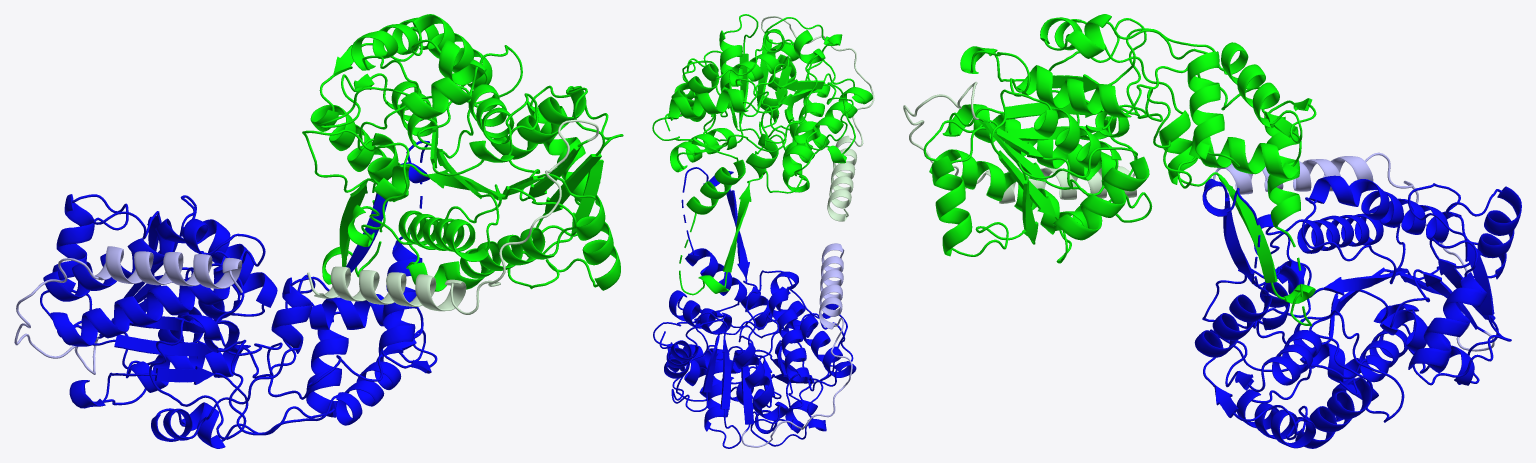
The model's file is Fig1.gltf.
3 renders of one model, left to right at view 1: azimuth 30°, elevation 25°; view 2: azimuth 150°, elevation 25°; view 3: azimuth 270°, elevation 25°, orthographic. The views are drawn at different scales.
Parts seen in each view (by area): view 1: node-geom0, node-geom4, node-geom5, node-geom2, node-geom1, node-geom3, node-geom6; view 2: node-geom2, node-geom3, node-geom1, node-geom4, node-geom0, node-geom5, node-geom6; view 3: node-geom2, node-geom0, node-geom3, node-geom1, node-geom5, node-geom4, node-geom6.
Part boxes in pixels (<box>): node-geom0: <box>307,85,623,314</box>; node-geom4: <box>40,218,423,439</box>; node-geom5: <box>69,140,437,448</box>; node-geom2: <box>148,14,538,292</box>; node-geom1: <box>302,45,576,291</box>; node-geom3: <box>14,194,277,374</box>; node-geom6: <box>221,311,348,439</box>; node-geom2: <box>652,17,844,295</box>; node-geom3: <box>664,243,852,448</box>; node-geom1: <box>670,45,872,192</box>; node-geom4: <box>669,271,856,408</box>; node-geom0: <box>674,14,874,221</box>; node-geom5: <box>653,167,826,446</box>; node-geom6: <box>659,331,760,428</box>; node-geom2: <box>960,14,1316,326</box>; node-geom0: <box>903,81,1152,263</box>; node-geom3: <box>1217,152,1521,385</box>; node-geom1: <box>923,18,1301,232</box>; node-geom5: <box>1194,178,1429,448</box>; node-geom4: <box>1202,175,1478,422</box>; node-geom6: <box>1295,377,1371,448</box>.
Bounding box in the file's own units: 74.35 × 80.19 × 98.42.
